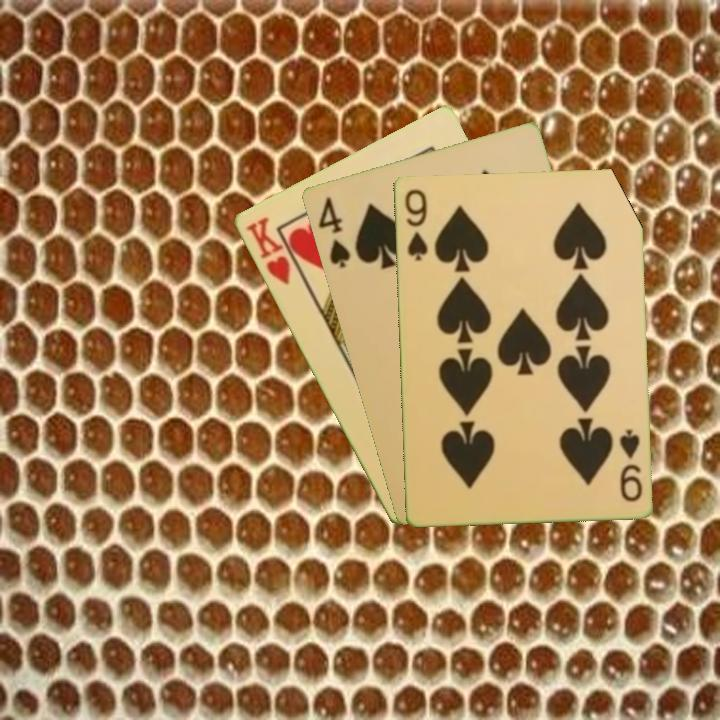4s: (314, 193, 353, 271)
9s: (400, 185, 430, 263), (615, 425, 644, 504)
Kh: (241, 213, 306, 288)
